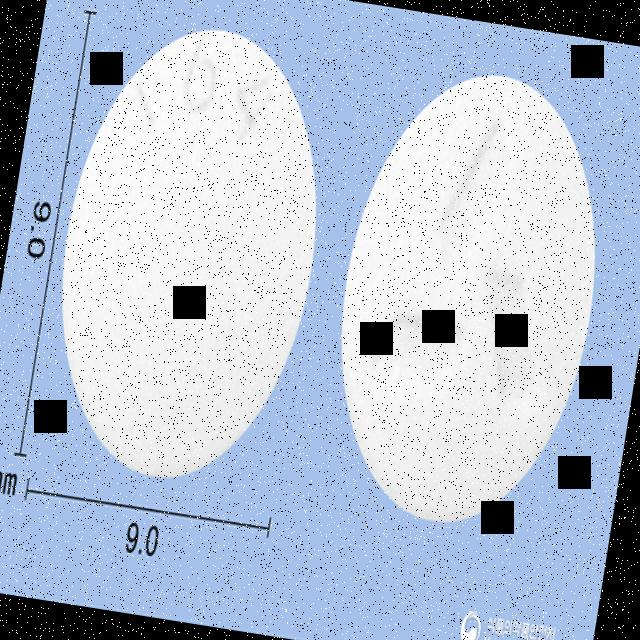Rulid Tab: (30, 9, 349, 494), (311, 55, 626, 542)
